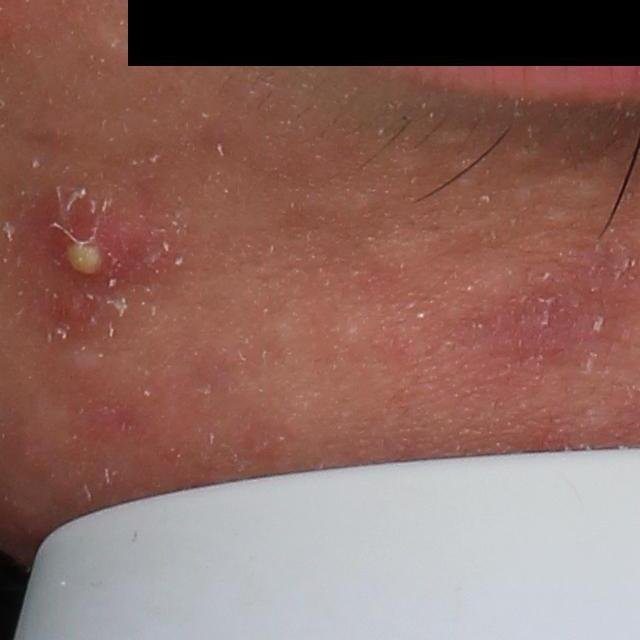hypertrophic_scar: (50, 346, 108, 382), (450, 154, 490, 187), (428, 128, 474, 149), (511, 141, 543, 164)
pustule: (40, 198, 147, 295)
